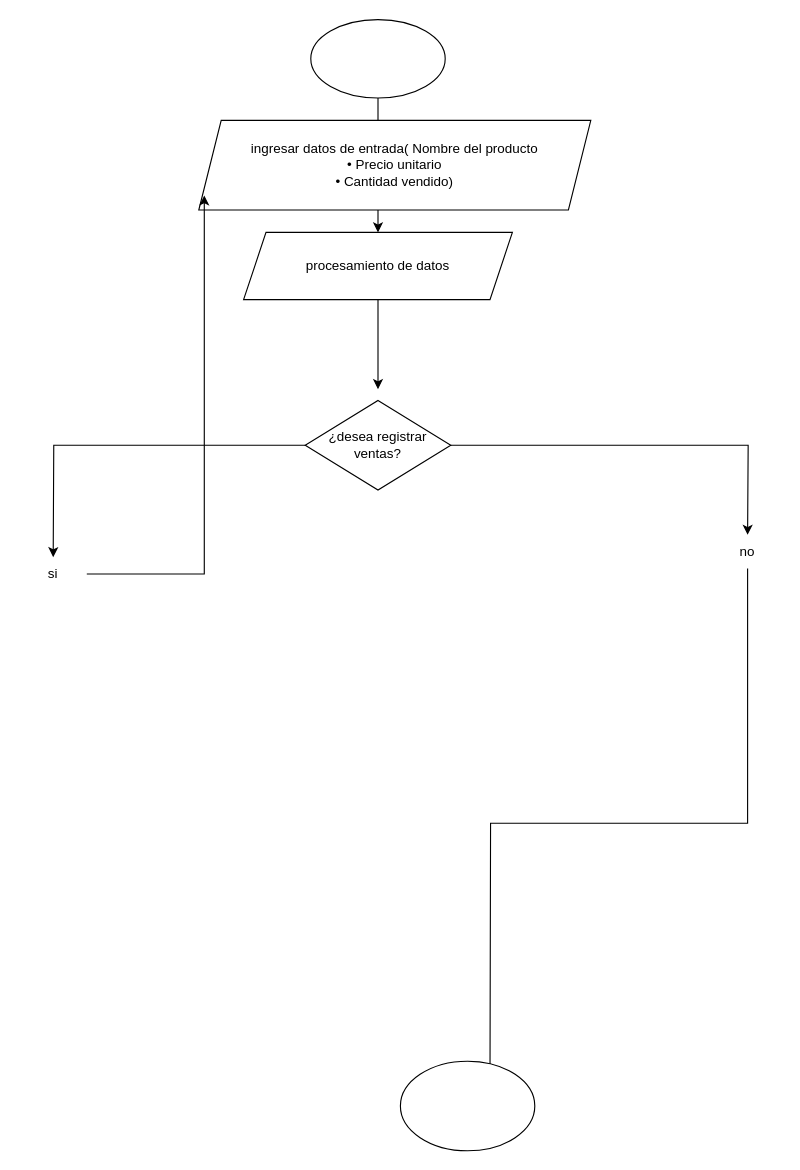
This 800x1170 diagram has some shape labels left out. The centre of each missing label's shape, as x and y in pixels:
"fin del programa" belongs at point (467, 1105).
"inicio programa" belongs at point (377, 58).
